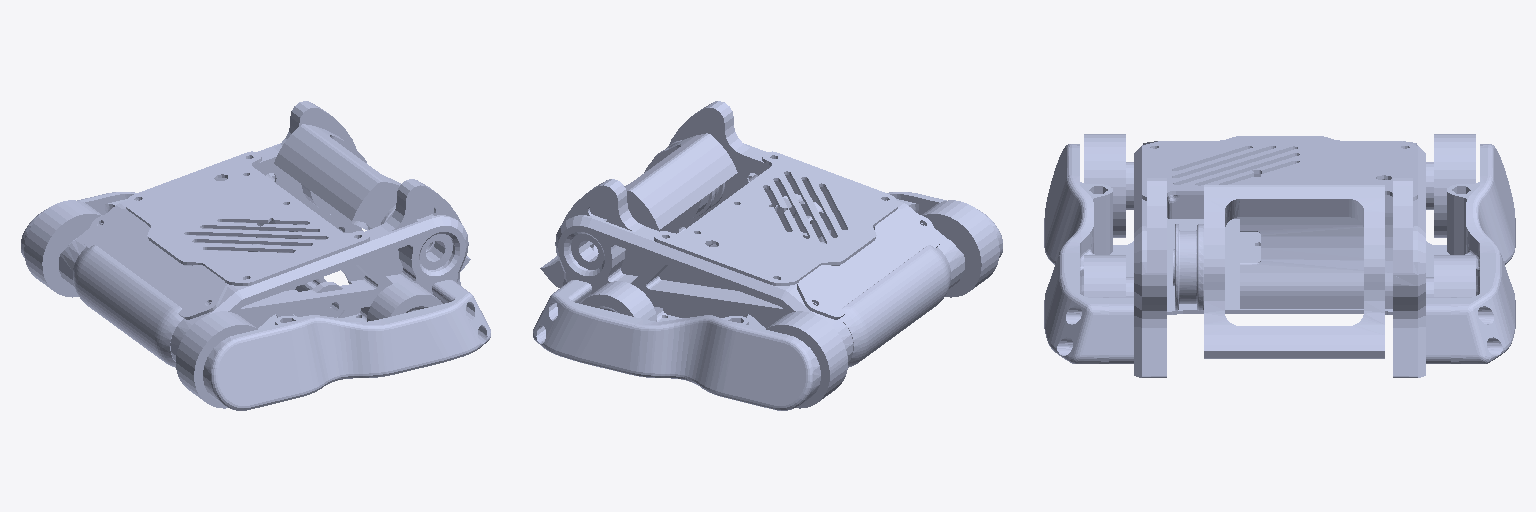
robot.urdf — generic_vert_urdf:
<?xml version='1.0' encoding='utf-8'?>
<robot name="generic_vert_urdf">
  <link name="base_link">
    <inertial>
      <origin xyz="0.0693926686483957 0.00567133641658812 0.0823225837980785" rpy="0 0 0" />
      <mass value="87.5698442084869" />
      <inertia ixx="0.633439181253258" ixy="-0.000989742813755044" ixz="-0.0925084613860187" iyy="1.93460785602706" iyz="-0.000335767865642296" izz="2.10995491634143" />
    </inertial>
    <visual>
      <origin xyz="0 0 0" rpy="0 0 0" />
      <geometry>
        <mesh filename="package://nemesis_gazebo/models/generic_vert_urdf/meshes/base_link.STL" />
      </geometry>
      <material name="">
        <color rgba="0.792156862745098 0.819607843137255 0.933333333333333 1" />
      </material>
    </visual>
    <collision>
      <origin xyz="0.07 0 0.1365" rpy="0 0 0" />
      <geometry>
        <box size="0.606 0.717 0.263" />
      </geometry>
    </collision>
  </link>
  <link name="fl_link">
    <inertial>
      <origin xyz="2.77555756156289E-17 6.93889390390723E-18 -0.0277099169774238" rpy="0 0 0" />
      <mass value="0.853769451894322" />
      <inertia ixx="0.00127949800497407" ixy="6.96747123174805E-26" ixz="2.0015116792751E-20" iyy="0.00127949800497407" iyz="8.16482396500782E-21" izz="0.00183834792911801" />
    </inertial>
    <visual>
      <origin xyz="0 0 0" rpy="0 0 0" />
      <geometry>
        <mesh filename="package://nemesis_gazebo/models/generic_vert_urdf/meshes/fl_link.STL" />
      </geometry>
      <material name="">
        <color rgba="0.792156862745098 0.819607843137255 0.933333333333333 1" />
      </material>
    </visual>
    <collision>
      <origin xyz="0 0 -0.02" rpy="0 0 0" />
      <geometry>
        <cylinder radius="0.065" length="0.088" />
      </geometry>
    </collision>
  </link>
  <joint name="fl_joint" type="continuous">
    <origin xyz="0.20476 0.23495 0.042793" rpy="1.5708 0 0" />
    <parent link="base_link" />
    <child link="fl_link" />
    <axis xyz="0 0 -1" />
    <limit effort="100" velocity="127.13" />
  </joint>
  <link name="rr_link">
    <inertial>
      <origin xyz="0 -1.38777878078145E-17 0.0278008910872139" rpy="0 0 0" />
      <mass value="1.20824930852362" />
      <inertia ixx="0.00245964496461435" ixy="-2.02763805704919E-19" ixz="4.78597500989398E-20" iyy="0.00245964496461435" iyz="-7.51671918590725E-20" izz="0.00394469200937269" />
    </inertial>
    <visual>
      <origin xyz="0 0 0" rpy="0 0 0" />
      <geometry>
        <mesh filename="package://nemesis_gazebo/models/generic_vert_urdf/meshes/rr_link.STL" />
      </geometry>
      <material name="">
        <color rgba="0.792156862745098 0.819607843137255 0.933333333333333 1" />
      </material>
    </visual>
    <collision>
      <origin xyz="0 0 0.02" rpy="0 0 0" />
      <geometry>
        <cylinder radius="0.079" length="0.088" />
      </geometry>
    </collision>
  </link>
  <joint name="rr_joint" type="continuous">
    <origin xyz="-0.16831 -0.23475 0.0568" rpy="1.5708 0 0" />
    <parent link="base_link" />
    <child link="rr_link" />
    <axis xyz="0 0 1" />
    <limit effort="121.4" velocity="104.72" />
  </joint>
  <link name="rl_link">
    <inertial>
      <origin xyz="0 -6.93889390390723E-18 -0.027800891087214" rpy="0 0 0" />
      <mass value="1.20824930852362" />
      <inertia ixx="0.00245964496461435" ixy="-2.08982880422337E-20" ixz="-7.96334312265295E-21" iyy="0.00245964496461435" iyz="-3.89387931649348E-20" izz="0.00394469200937269" />
    </inertial>
    <visual>
      <origin xyz="0 0 0" rpy="0 0 0" />
      <geometry>
        <mesh filename="package://nemesis_gazebo/models/generic_vert_urdf/meshes/rl_link.STL" />
      </geometry>
      <material name="">
        <color rgba="0.792156862745098 0.819607843137255 0.933333333333333 1" />
      </material>
    </visual>
    <collision>
      <origin xyz="0 0 -0.02" rpy="0 0 0" />
      <geometry>
        <cylinder radius="0.079" length="0.088" />
      </geometry>
    </collision>
  </link>
  <joint name="rl_joint" type="continuous">
    <origin xyz="-0.16831 0.23495 0.0568" rpy="1.5708 0 0" />
    <parent link="base_link" />
    <child link="rl_link" />
    <axis xyz="0 0 -1" />
    <limit effort="121.4" velocity="104.72" />
  </joint>
  <link name="fr_link">
    <inertial>
      <origin xyz="0 0 0.0277099169774238" rpy="0 0 0" />
      <mass value="0.853769451894322" />
      <inertia ixx="0.00127949800497407" ixy="2.07130368911043E-19" ixz="2.24443171633582E-20" iyy="0.00127949800497407" iyz="1.00897110728447E-20" izz="0.00183834792911801" />
    </inertial>
    <visual>
      <origin xyz="0 0 0" rpy="0 0 0" />
      <geometry>
        <mesh filename="package://nemesis_gazebo/models/generic_vert_urdf/meshes/fr_link.STL" />
      </geometry>
      <material name="">
        <color rgba="0.792156862745098 0.819607843137255 0.933333333333333 1" />
      </material>
    </visual>
    <collision>
      <origin xyz="0 0 0.02" rpy="0 0 0" />
      <geometry>
        <cylinder radius="0.065" length="0.088" />
      </geometry>
    </collision>
  </link>
  <joint name="fr_joint" type="continuous">
    <origin xyz="0.20476 -0.23475 0.042793" rpy="1.5708 0 0" />
    <parent link="base_link" />
    <child link="fr_link" />
    <axis xyz="0 0 1" />
    <limit effort="100" velocity="127.13" />
  </joint>
  <link name="spin_link">
    <inertial>
      <origin xyz="6.80386217088991E-07 -2.94446914606006E-06 -0.164167416214641" rpy="0 0 0" />
      <mass value="20.4461621935295" />
      <inertia ixx="0.277028436314203" ixy="0.079286942088048" ixz="-3.35270222272356E-07" iyy="0.265958899408207" iyz="1.73500142871376E-07" izz="0.18913547914032" />
    </inertial>
    <visual>
      <origin xyz="0 0 0" rpy="0 0 0" />
      <geometry>
        <mesh filename="package://nemesis_gazebo/models/generic_vert_urdf/meshes/spin_link.STL" />
      </geometry>
      <material name="">
        <color rgba="0.792156862745098 0.819607843137255 0.933333333333333 1" />
      </material>
    </visual>
    <collision>
      <origin xyz="0 0 -0.16" rpy="0 0 0" />
      <geometry>
        <cylinder radius="0.115" length="0.32" />
      </geometry>
    </collision>
  </link>
  <joint name="spin_joint" type="continuous">
    <origin xyz="0.29524 -0.1599 0.13618" rpy="1.5708 0 0" />
    <parent link="base_link" />
    <child link="spin_link" />
    <axis xyz="0 0 1" />
    <limit effort="50" velocity="733.04" />
  </joint>
  <!-- Plugins -->
  <gazebo>
    <plugin filename="gz-sim-pose-publisher-system" name="gz::sim::systems::PosePublisher">
      <publish_link_pose>false</publish_link_pose>
      <publish_visual_pose>false</publish_visual_pose>
      <publish_collision_pose>false</publish_collision_pose>
      <publish_sensor_pose>false</publish_sensor_pose>
      <publish_model_pose>true</publish_model_pose>
      <publish_nested_model_pose>true</publish_nested_model_pose>
      <use_pose_vector_msg>false</use_pose_vector_msg>
      <static_publisher>false</static_publisher>
      <update_frequency>200</update_frequency>
    </plugin>
    <plugin filename="gz-sim-joint-controller-system" name="gz::sim::systems::JointController">
      <joint_name>rl_joint</joint_name>
      <topic>/opponent/left_wheels/cmd_vel</topic>
    </plugin>
    <plugin filename="gz-sim-joint-controller-system" name="gz::sim::systems::JointController">
      <joint_name>rr_joint</joint_name>
      <topic>/opponent/right_wheels/cmd_vel</topic>
    </plugin>
    <plugin filename="gz-sim-joint-controller-system" name="gz::sim::systems::JointController">
      <joint_name>fl_joint</joint_name>
      <topic>/opponent/left_wheels/cmd_vel_f</topic>
    </plugin>
    <plugin filename="gz-sim-joint-controller-system" name="gz::sim::systems::JointController">
      <joint_name>fr_joint</joint_name>
      <topic>/opponent/right_wheels/cmd_vel_f</topic>
    </plugin>
    <plugin filename="gz-sim-joint-controller-system" name="gz::sim::systems::JointController">
      <joint_name>spin_joint</joint_name>
      <topic>/opponent/weapon_motor/cmd_vel</topic>
    </plugin>
  </gazebo>
  <gazebo reference="base_link">
    <mu1>0.3</mu1>
    <mu2>0.3</mu2>
  </gazebo>
  <gazebo reference="fl_link">
    <mu1>1</mu1>
    <mu2>1</mu2>
  </gazebo>
  <gazebo reference="rr_link">
    <mu1>1</mu1>
    <mu2>1</mu2>
  </gazebo>
  <gazebo reference="rl_link">
    <mu1>1</mu1>
    <mu2>1</mu2>
  </gazebo>
  <gazebo reference="fr_link">
    <mu1>1</mu1>
    <mu2>1</mu2>
  </gazebo>
  <gazebo reference="spin_link">
    <mu1>0.3</mu1>
    <mu2>0.3</mu2>
  </gazebo>
</robot>

--- Facts derived from the render (not from the file) ---
The picture shows the robot from 3 angles, left to right: view 1: azimuth 30°, elevation 25°; view 2: azimuth 150°, elevation 25°; view 3: azimuth 270°, elevation 25°; orthographic projection.
Robot: generic_vert_urdf — 6 links, 5 joints (5 continuous); root link base_link; default pose: every joint at zero.
Links seen in each view (by area): view 1: base_link, spin_link, rl_link, rr_link, fr_link; view 2: base_link, spin_link, rr_link, rl_link, fl_link; view 3: base_link, spin_link, rr_link, rl_link, fl_link, fr_link.
Boxes of the visible links, <box> form: base_link: <box>21,101,490,410</box>; spin_link: <box>274,124,470,271</box>; rl_link: <box>24,200,101,297</box>; rr_link: <box>176,311,257,408</box>; fr_link: <box>367,281,442,321</box>; base_link: <box>533,101,1002,410</box>; spin_link: <box>540,133,737,287</box>; rr_link: <box>922,200,999,297</box>; rl_link: <box>766,311,847,408</box>; fl_link: <box>581,281,656,321</box>; base_link: <box>1044,136,1515,377</box>; spin_link: <box>1173,185,1384,358</box>; rr_link: <box>1084,134,1133,237</box>; rl_link: <box>1426,134,1475,237</box>; fl_link: <box>1426,255,1475,296</box>; fr_link: <box>1084,255,1133,296</box>.
Bounding box of the posed robot: 0.6685 × 0.7171 × 0.291 m (x, y, z).
6 mesh visuals loaded from 6 distinct referenced files (6 binary STL).
